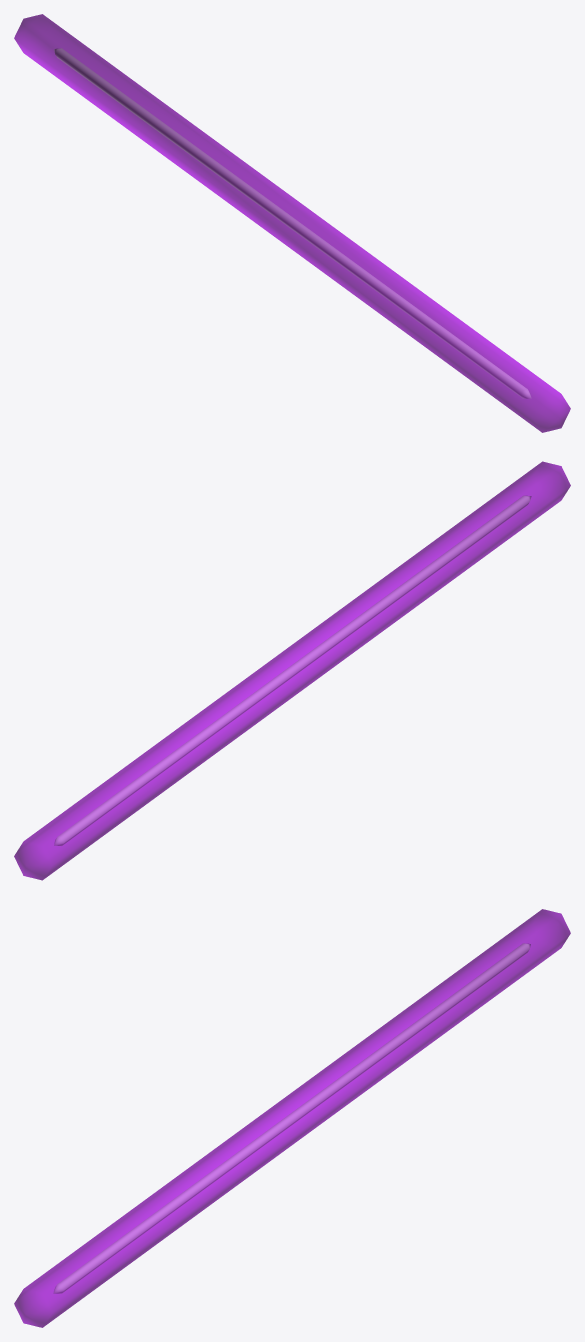
The model's file is purple_laser_model.fbx.
3 renders of one model, top to bottom at view 1: azimuth 30°, elevation 25°; view 2: azimuth 150°, elevation 25°; view 3: azimuth 330°, elevation 25°, orthographic.
Parts seen in each view (by area): view 1: glow, bolt; view 2: glow, bolt; view 3: glow, bolt.
Boxes of the visible parts, x1=… form: glow: x1=14, y1=14, x2=570, y2=432; bolt: x1=54, y1=48, x2=531, y2=398; glow: x1=14, y1=461, x2=570, y2=880; bolt: x1=54, y1=495, x2=531, y2=845; glow: x1=14, y1=909, x2=570, y2=1327; bolt: x1=53, y1=943, x2=530, y2=1293.
Bounding box in the file's own units: 3.15 × 2.73 × 76.43.
